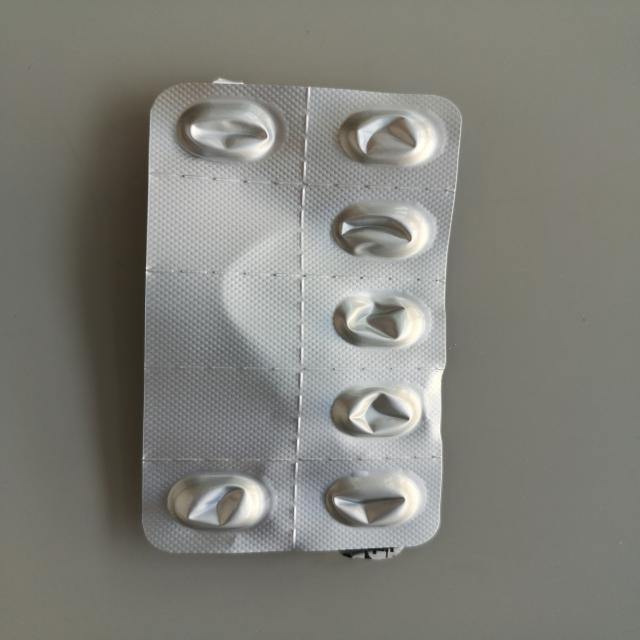Empty: (160, 470, 282, 532), (173, 96, 284, 164), (336, 106, 446, 168), (328, 199, 434, 262), (320, 470, 428, 530), (326, 288, 427, 350), (325, 380, 425, 442)
